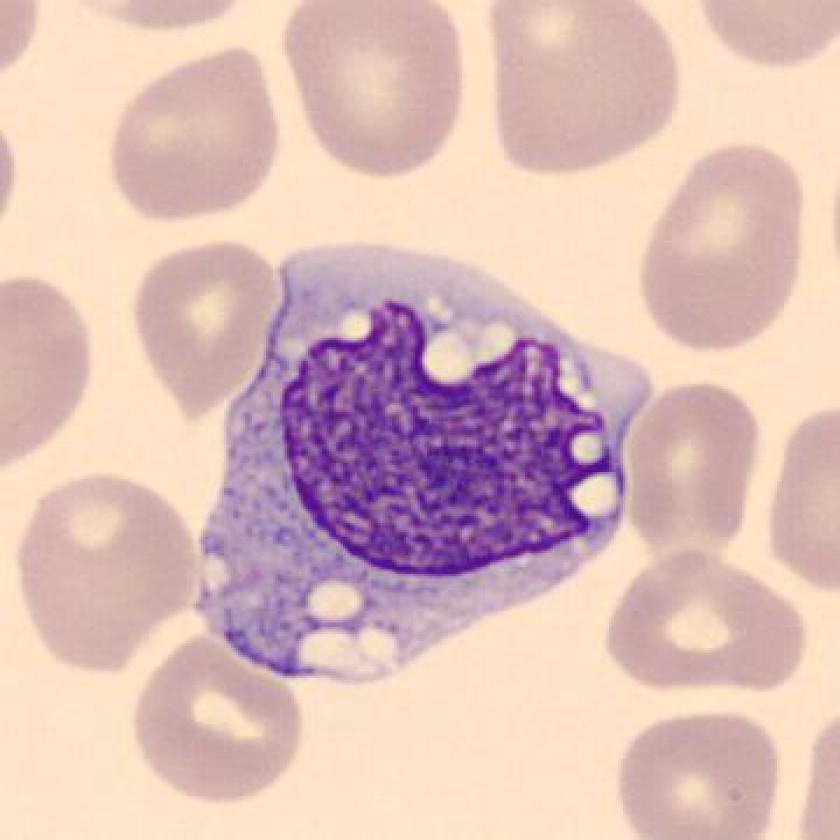monocyte: (181, 216, 664, 707)
